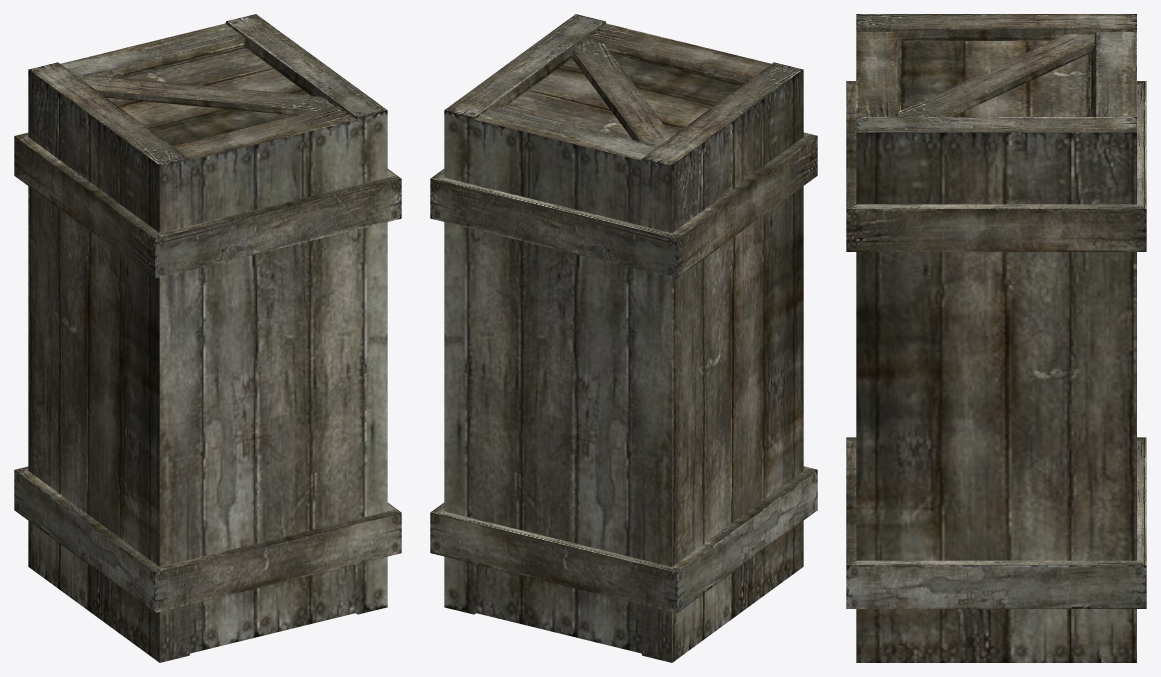
File: hill400_crate.glb
3 views of the same model, side by side, from view 1: azimuth 30°, elevation 25°; view 2: azimuth 150°, elevation 25°; view 3: azimuth 270°, elevation 25° (orthographic). The views are drawn at different scales.
Bounding box in the file's own units: 26.02 × 50.14 × 25.72.
Materials: 1 (1 with a texture image).
